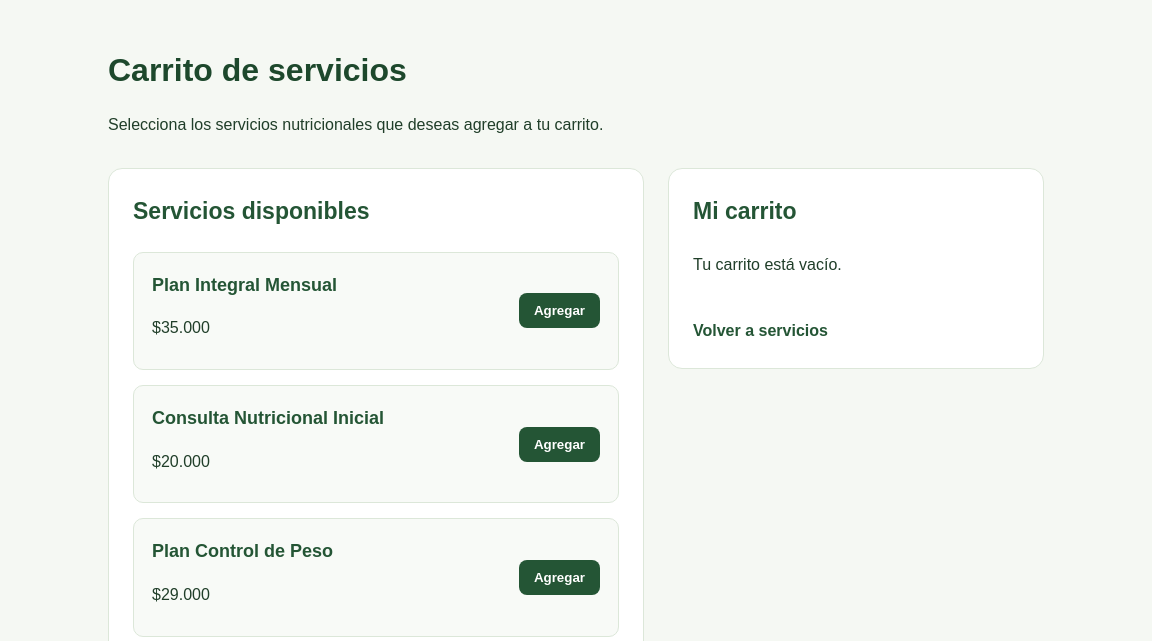
Test: Carrito de servicios NutriVida › Elimina solamente el servicio seleccionado
Step 1. Click the button "Agregar" in the row of "$35.000" → (559, 311), box 519,293 -> 600,328
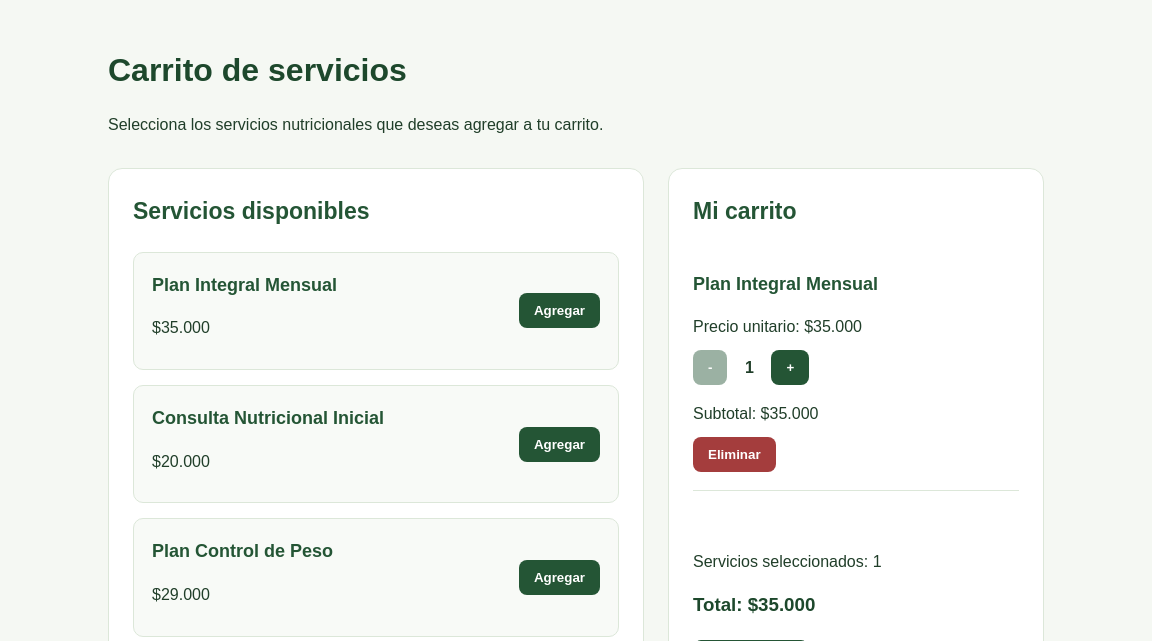
Step 2. Click the button "Agregar" in the row of "$20.000" → (559, 444), box 519,427 -> 600,462
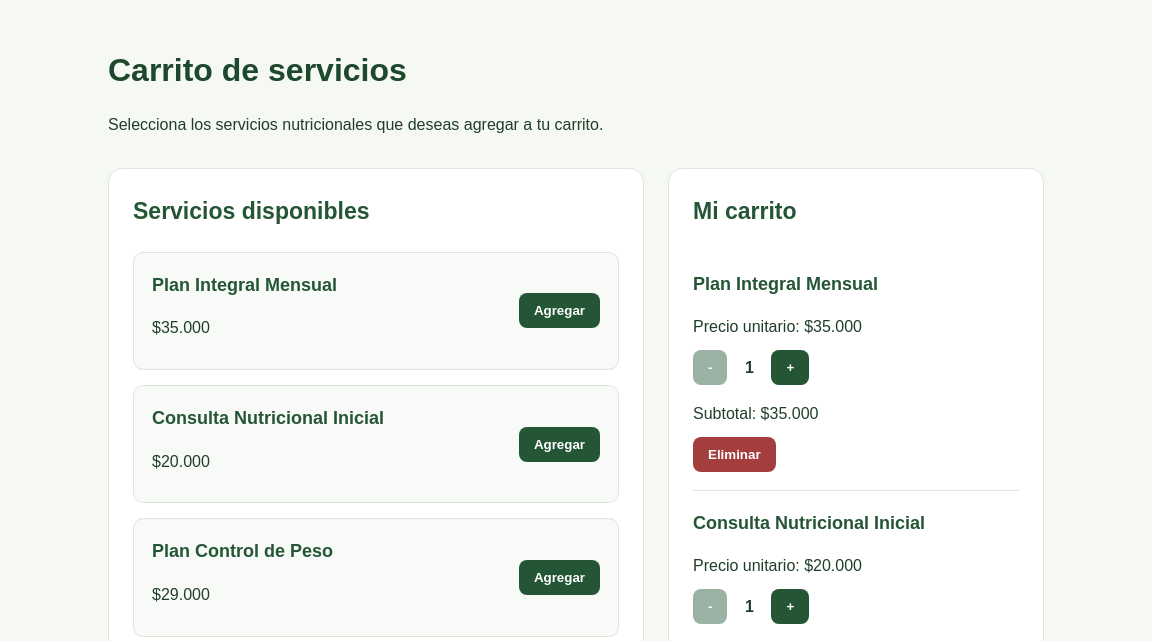
Step 3. Click the 1st button "Eliminar" → (734, 454), box 693,437 -> 776,472
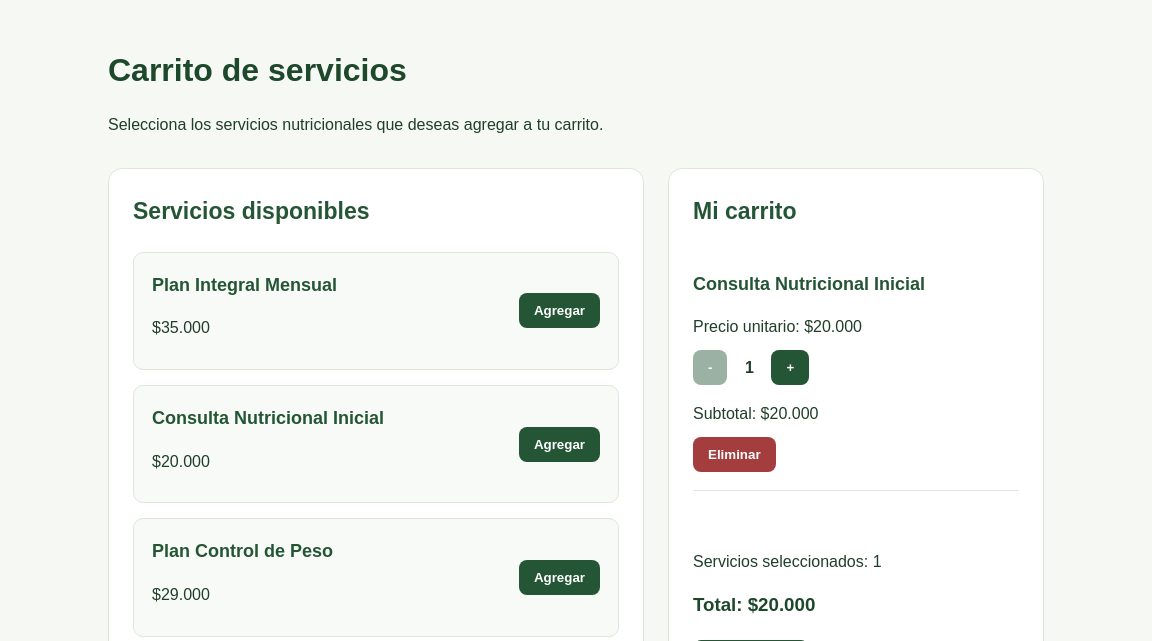
Expected: the text "Servicios seleccionados: 1" is shown, 693,553 -> 882,570
Expected: the heading "Total: $20.000" is shown, 693,594 -> 815,615
